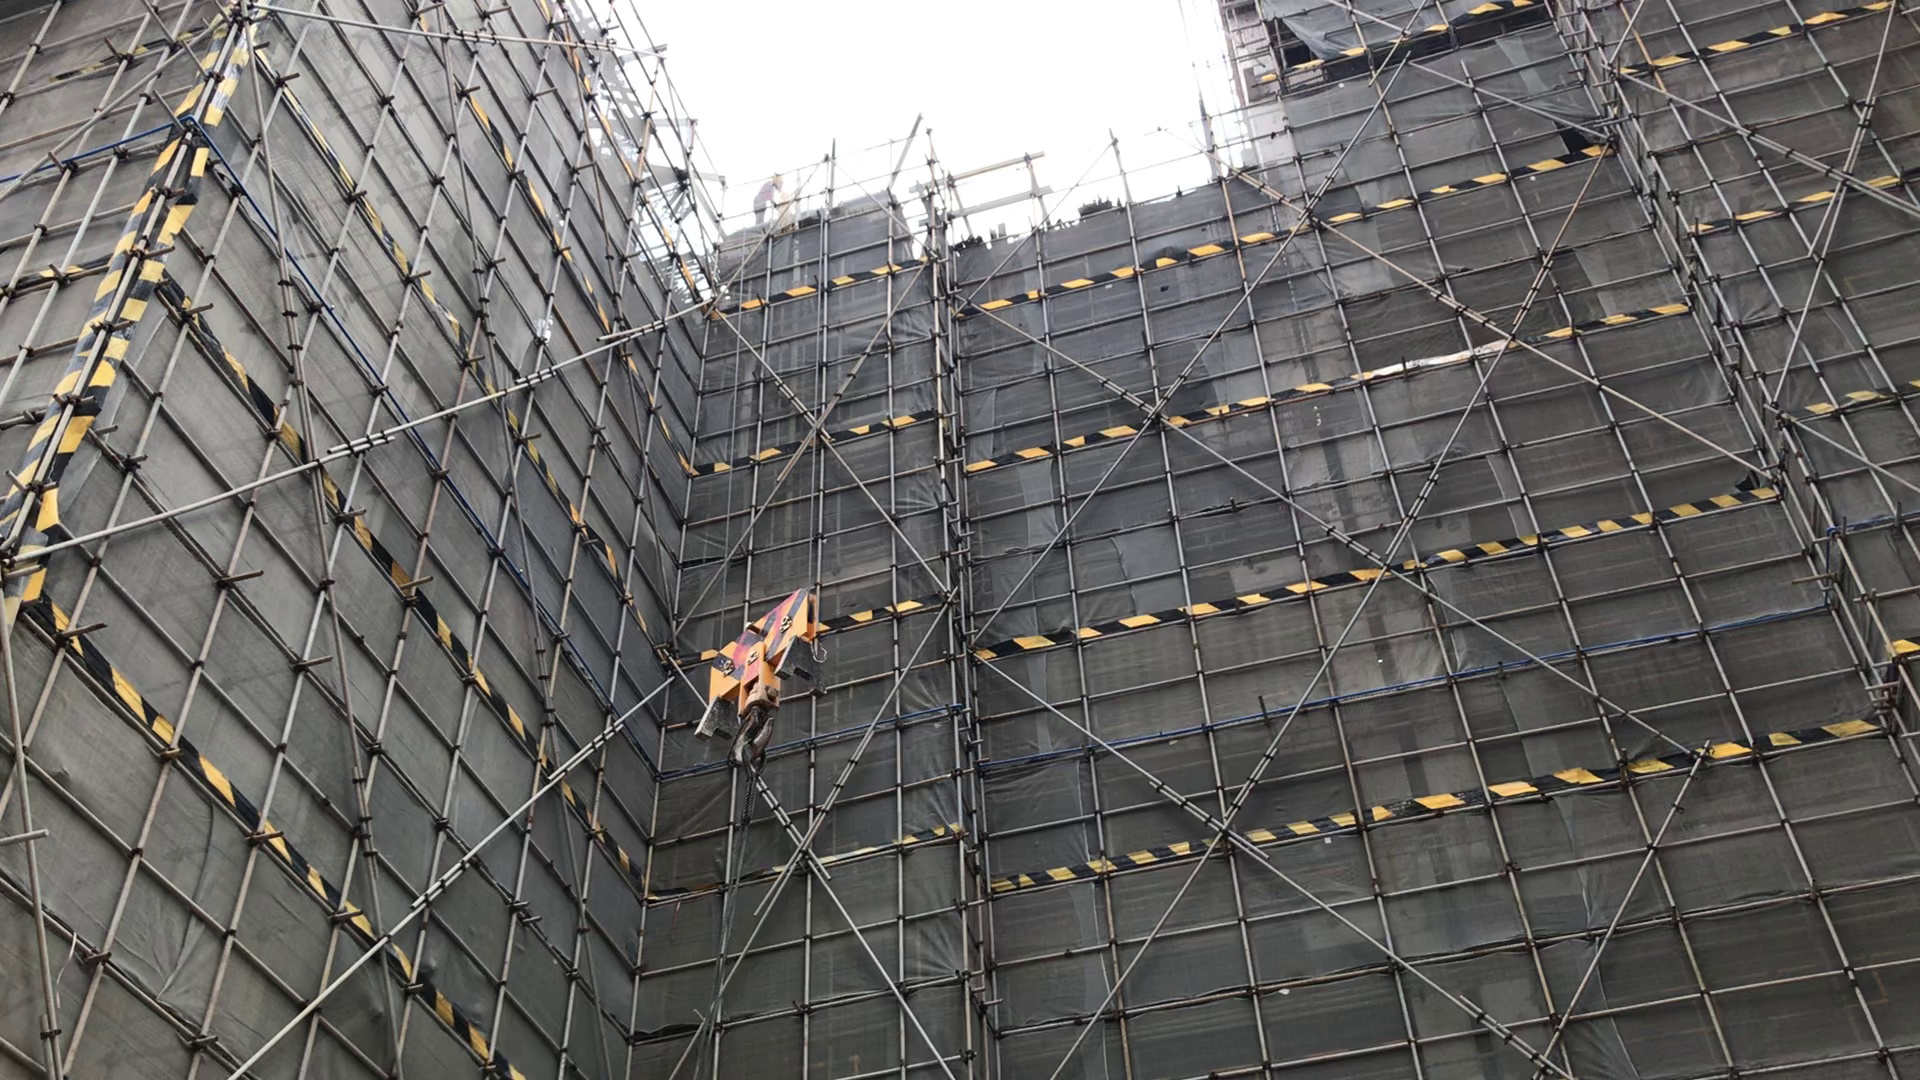hook: (688, 578, 828, 822)
